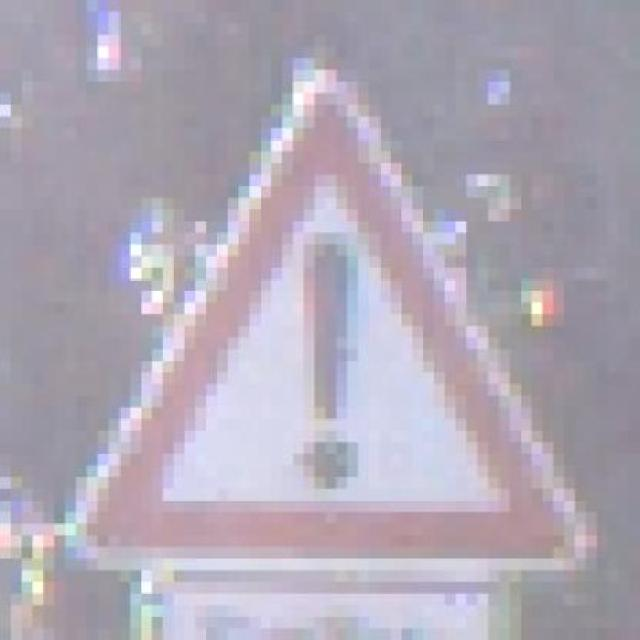Attention Please-: (32, 58, 608, 594)
